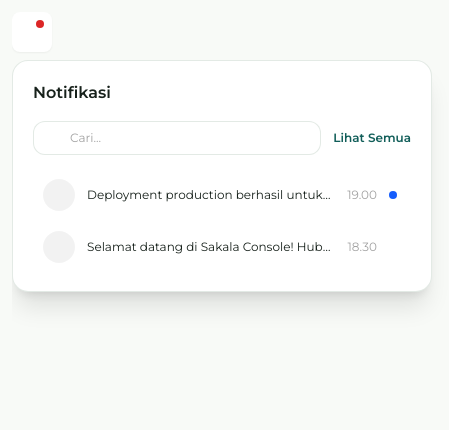
Test: NotificationPopover › menampilkan status kosong saat pencarian tidak menemukan hasil
Type "kata kunci yang tidak ada sama sekali" into the field with placeholder "Cari..." at (177,138), box 33,121 -> 321,155
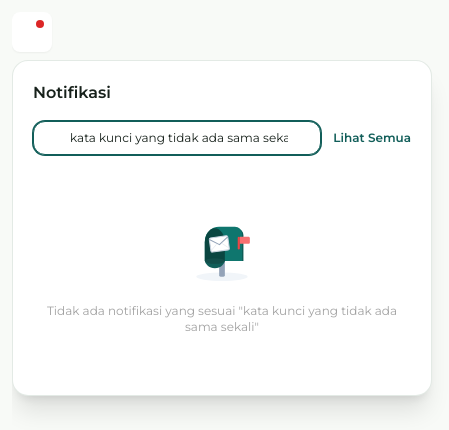
Expected: the text "Tidak ada notifikasi yang sesuai" is shown, 47,303 -> 397,334
